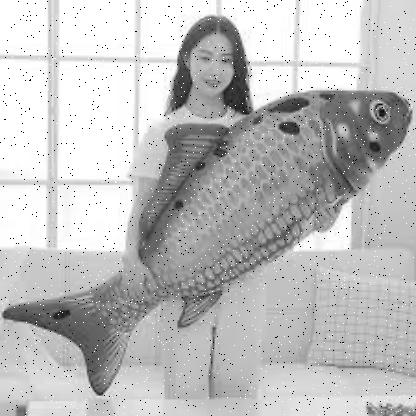ikan-mas: (7, 79, 415, 367)
